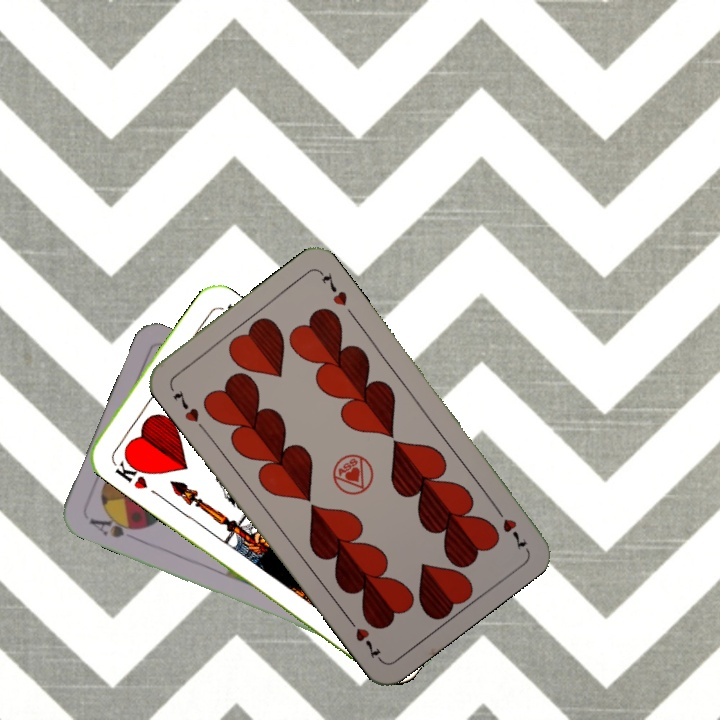H7: (490, 501, 530, 552), (168, 386, 202, 425)
HK: (107, 451, 152, 492)
SA: (85, 510, 144, 541)
